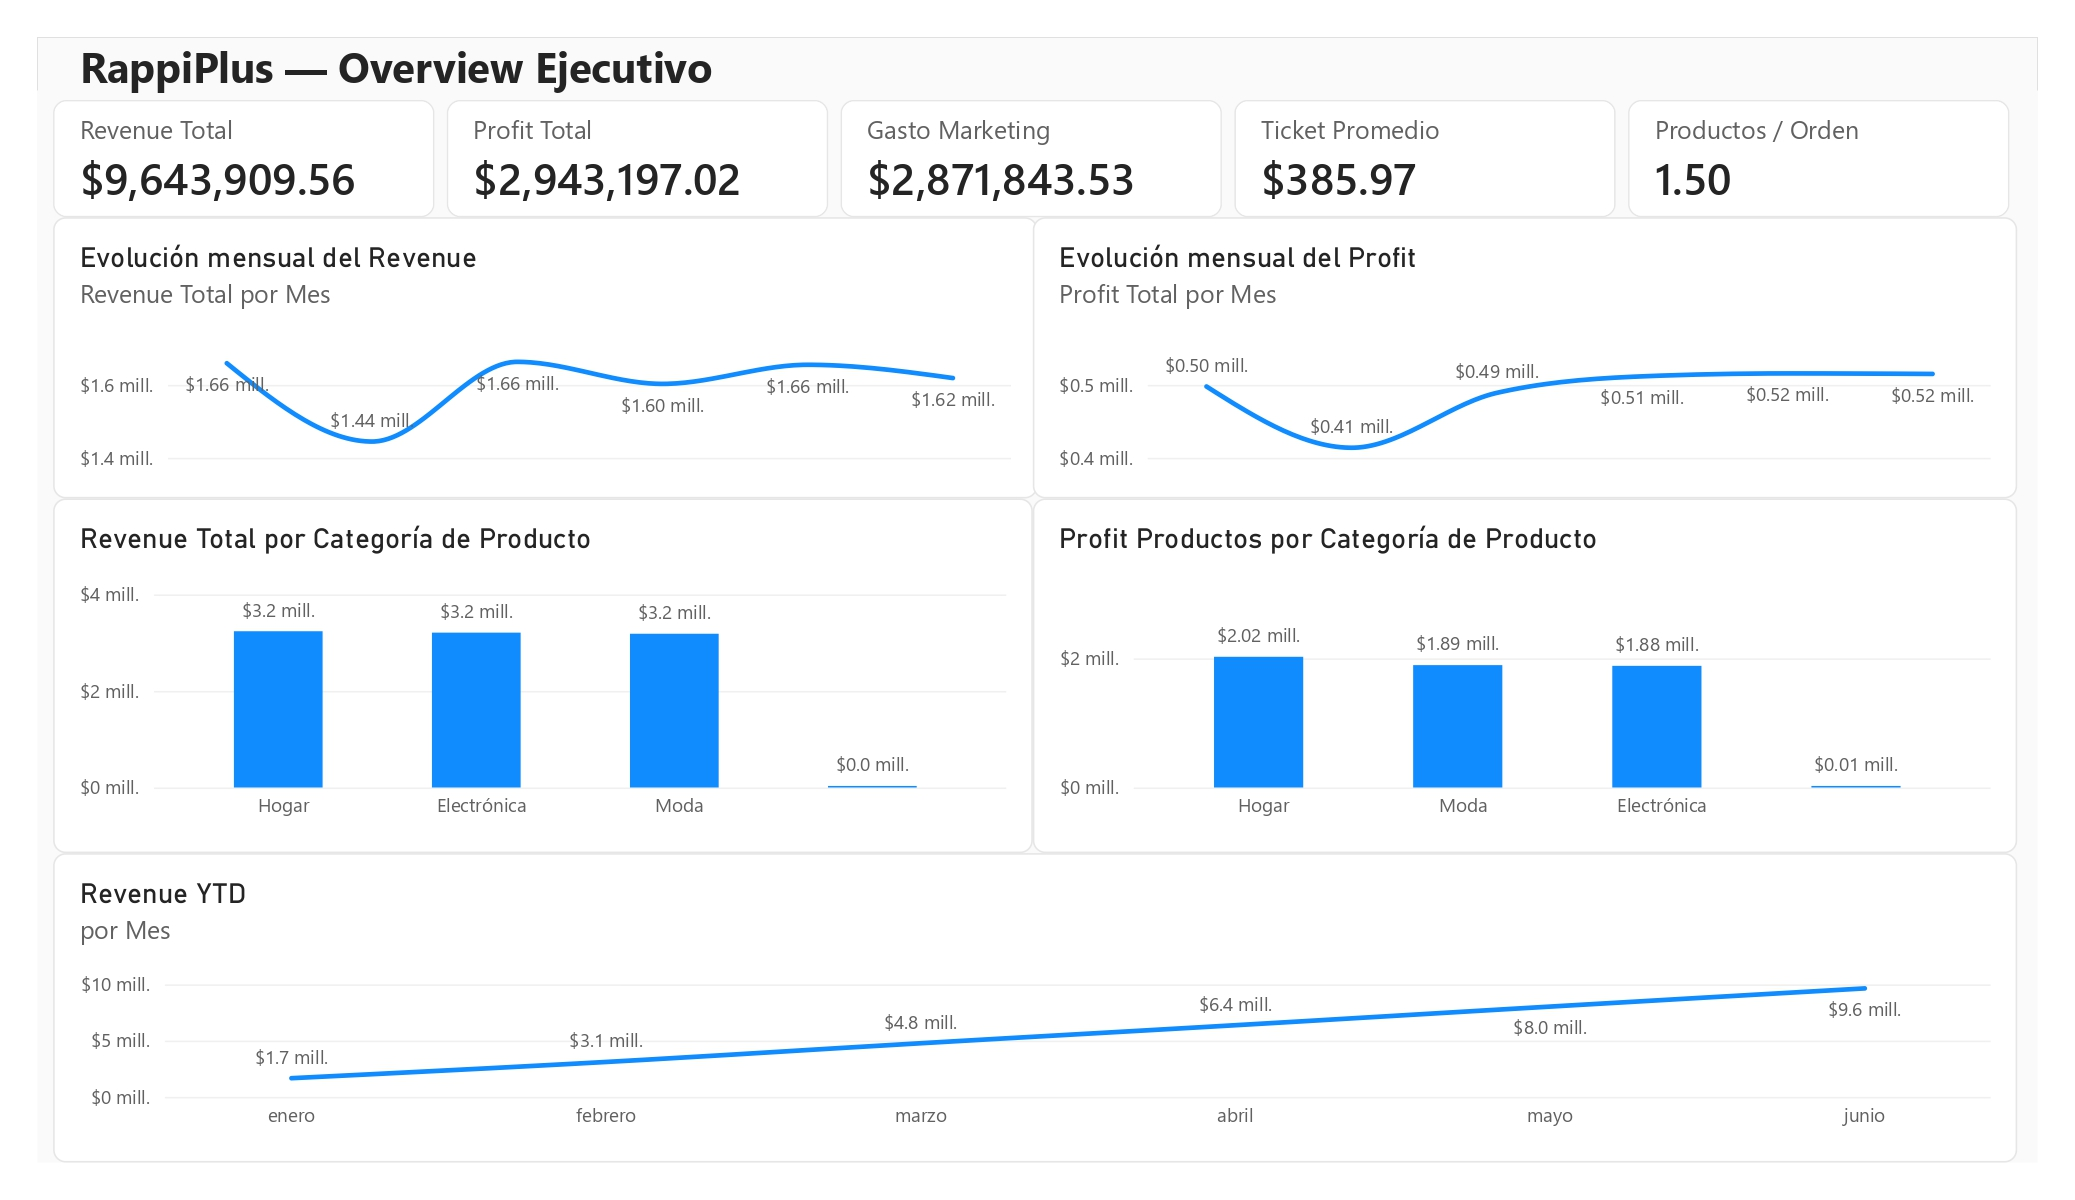

This screenshot's page, from the dashboard's own definition file:
{"tool":"powerbi","page":{"name":"Overview Ejecutivo","canvas":[1280,720],"ordinal":0},"visuals":[{"type":"cardVisual","fields":{"Data":["orders_clean.Revenue Total","orders_clean.Profit","orders_clean.Gasto Marketing","orders_clean.Ticket Promedio","orders_clean.Productos Promedio por Orden"]},"box":[10,40,1256.7,75],"z":0},{"type":"lineChart","title":"Evolución mensual del Revenue","fields":{"Category":["dim_fecha.Date.Variación.Jerarquía de fechas.Mes"],"Y":["orders_clean.Revenue Total"]},"box":[10,115,630,180],"z":1000},{"type":"clusteredColumnChart","title":"Revenue Total por Categoría de Producto","fields":{"Category":["orders_clean.categoria_producto"],"Y":["orders_clean.Revenue Total"]},"box":[10,295,626.7,226.7],"z":2000},{"type":"clusteredColumnChart","title":"Profit Productos por Categoría de Producto","fields":{"Category":["orders_clean.categoria_producto"],"Y":["orders_clean.Profit Productos"]},"box":[636.7,295,630,226.7],"z":3000},{"type":"lineChart","title":"Evolución mensual del Profit","fields":{"Category":["dim_fecha.Date.Variación.Jerarquía de fechas.Mes"],"Y":["orders_clean.Profit Total"]},"box":[636.7,115,630,180],"z":4000},{"type":"lineChart","fields":{"Category":["dim_fecha.Date.Variación.Jerarquía de fechas.Mes"],"Y":["orders_clean.Revenue YTD"]},"box":[10,521.7,1256.7,198.3],"z":5000},{"type":"textbox","box":[26.7,0,1251.7,40],"z":6000}]}

Visuals, with their boxes on the page's 1280x720 design canvas (x1, y1, x2, y2). These are canvas units, not pixel positions in the 2075x1200 screenshot, which may show the page scaled, cropped or inside an application window:
cardVisual - orders_clean.Revenue Total x orders_clean.Profit: (10, 40, 1267, 115)
"Evolución mensual del Revenue" lineChart: (10, 115, 640, 295)
"Revenue Total por Categoría de Producto" clusteredColumnChart: (10, 295, 637, 522)
"Profit Productos por Categoría de Producto" clusteredColumnChart: (637, 295, 1267, 522)
"Evolución mensual del Profit" lineChart: (637, 115, 1267, 295)
lineChart - dim_fecha.Date.Variación.Jerarquía de fechas.Mes x orders_clean.Revenue YTD: (10, 522, 1267, 720)
textbox: (27, 0, 1278, 40)
